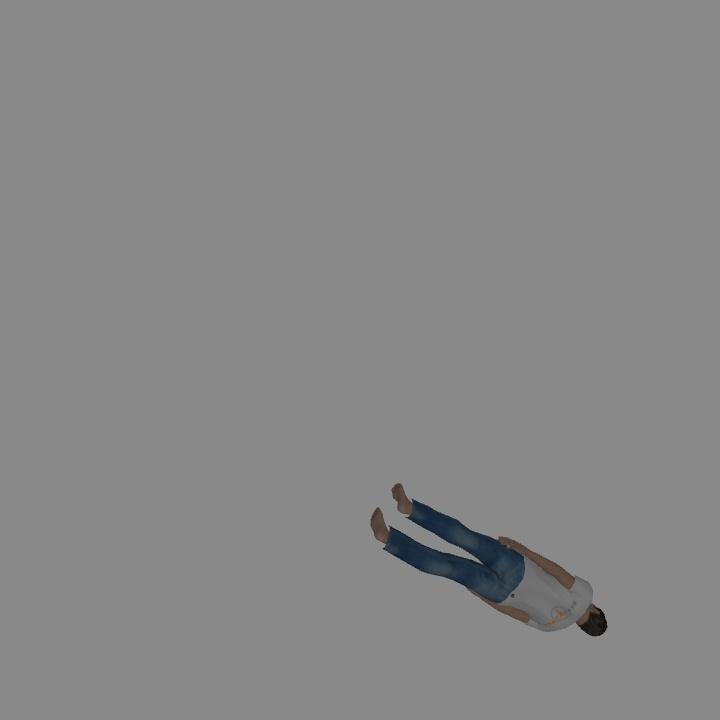victim: (373, 490, 608, 636)
